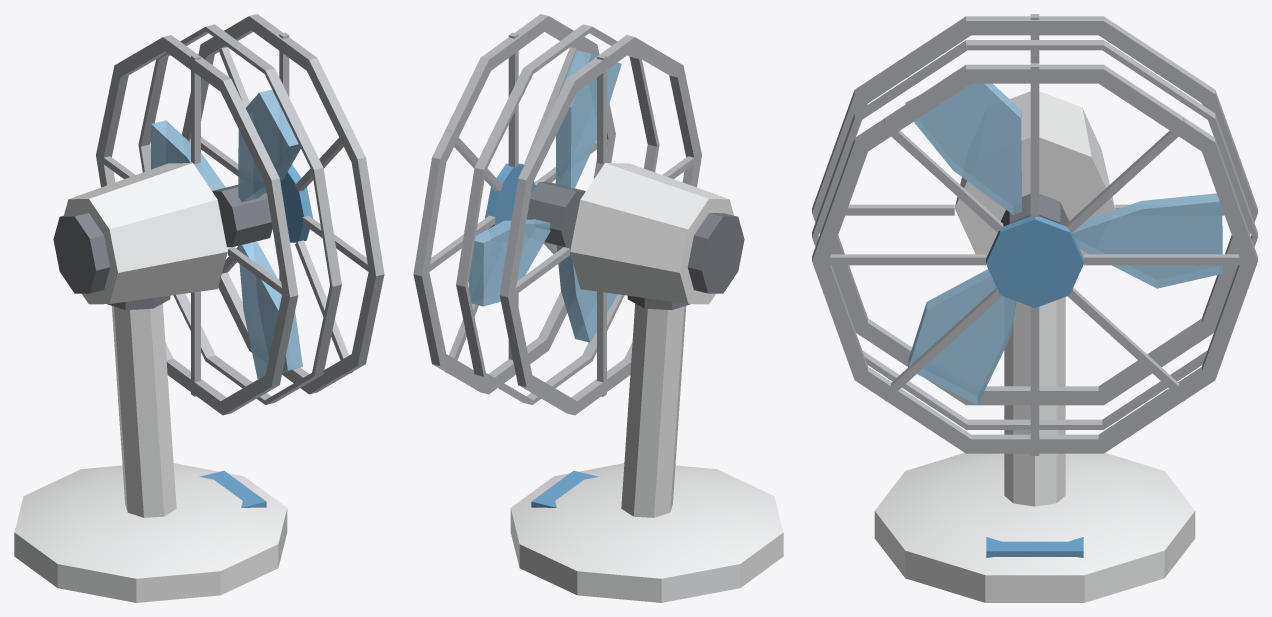
Rendered from ventilador_mesa.glb.
3 views of the same model, side by side, from view 1: azimuth 30°, elevation 25°; view 2: azimuth 150°, elevation 25°; view 3: azimuth 270°, elevation 25° (orthographic). The views are drawn at different scales.
Visible parts, largest first — view 1: corpo, helice; view 2: corpo, helice; view 3: corpo, helice.
Part boxes in pixels (<box>): corpo: <box>14,14,384,602</box>; helice: <box>151,89,302,378</box>; corpo: <box>413,14,783,602</box>; helice: <box>468,50,621,342</box>; corpo: <box>812,14,1257,602</box>; helice: <box>905,83,1222,404</box>.
Size of the model in its own units: 0.2434 by 0.434 by 0.32.
